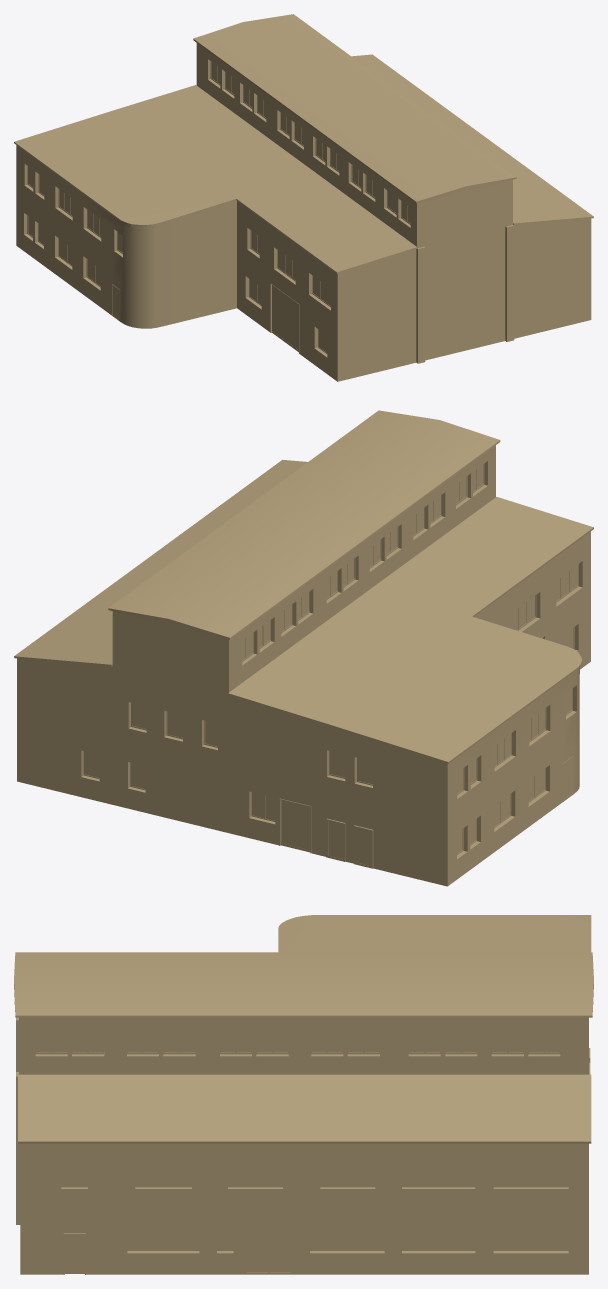
File: Building_00.fbx
3 views of the same model, one above another, from view 1: azimuth 30°, elevation 25°; view 2: azimuth 150°, elevation 25°; view 3: azimuth 270°, elevation 25° (orthographic). The views are drawn at different scales.
Visible parts, largest first — view 1: Building_00; view 2: Building_00; view 3: Building_00.
Part boxes in pixels (x1,y1,x2,y2): Building_00: (14, 14, 593, 381); Building_00: (14, 410, 593, 886); Building_00: (14, 915, 593, 1274).
Bounding box in the file's own units: 2422 × 1075 × 2621.
